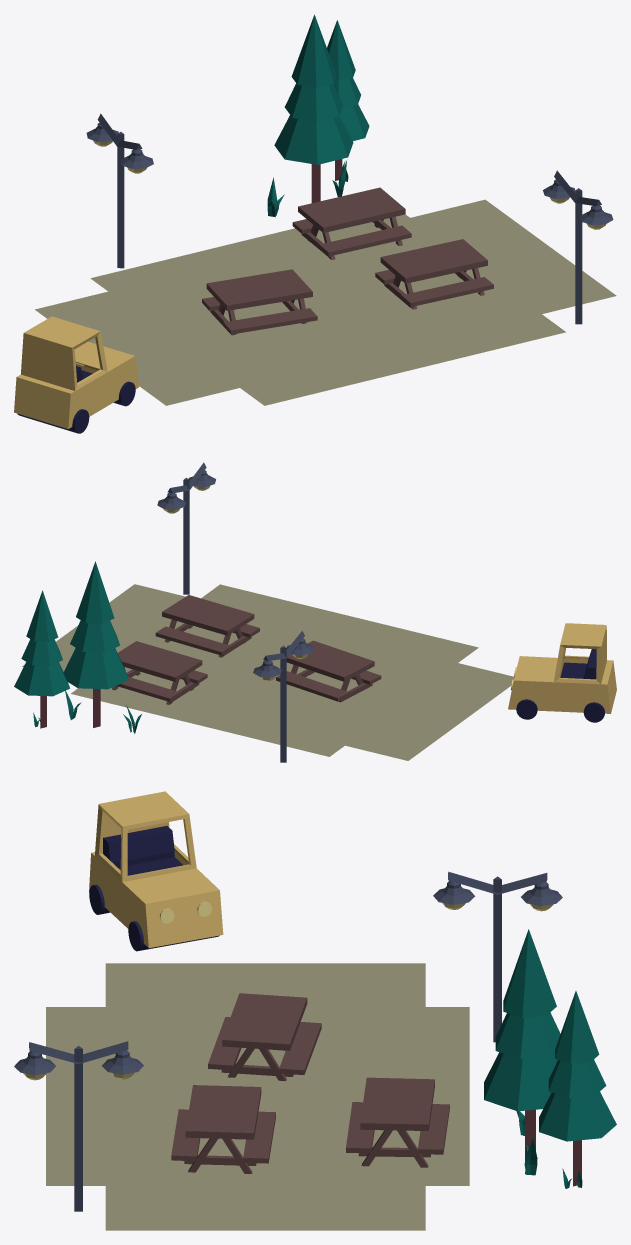
File: picnic_area.fbx
3 views of the same model, one above another, from view 1: azimuth 30°, elevation 25°; view 2: azimuth 150°, elevation 25°; view 3: azimuth 270°, elevation 25° (orthographic). The views are drawn at different scales.
Parts seen in each view (by area): view 1: yellow_car.005, yellow_car, tree.001, picnic table, picnic table.002, picnic table.001, tree, park_light.001, park_light; view 2: yellow_car.005, yellow_car, tree.001, picnic table.002, tree, picnic table.001, picnic table, park_light, park_light.001; view 3: yellow_car.005, yellow_car, tree.001, picnic table.001, tree, picnic table.002, picnic table, park_light.001, park_light.
Boxes of the visible parts, x1,y1,x2,y2 form: yellow_car.005: (35,199,616,405); yellow_car: (14,316,139,433); tree.001: (274,14,353,203); picnic table: (292,187,411,259); picnic table.002: (375,239,493,309); picnic table.001: (202,269,317,335); tree: (327,20,369,180); park_light.001: (543,170,613,324); park_light: (86,113,153,268); yellow_car.005: (22,584,514,760); yellow_car: (508,623,616,722); tree.001: (63,561,128,727); picnic table.002: (155,595,259,657); tree: (14,590,69,728); picnic table.001: (276,640,381,702); picnic table: (112,641,207,704); park_light: (253,631,314,762); park_light.001: (157,462,215,594); yellow_car.005: (46,963,469,1230); yellow_car: (89,791,223,951); tree.001: (484,929,560,1157); picnic table.001: (208,993,321,1081); tree: (539,991,616,1186); picnic table.002: (171,1085,275,1173); picnic table: (346,1077,449,1167); park_light.001: (14,1041,143,1211); park_light: (433,871,562,1042).
Size of the model in its own units: 770 by 246 by 571.
